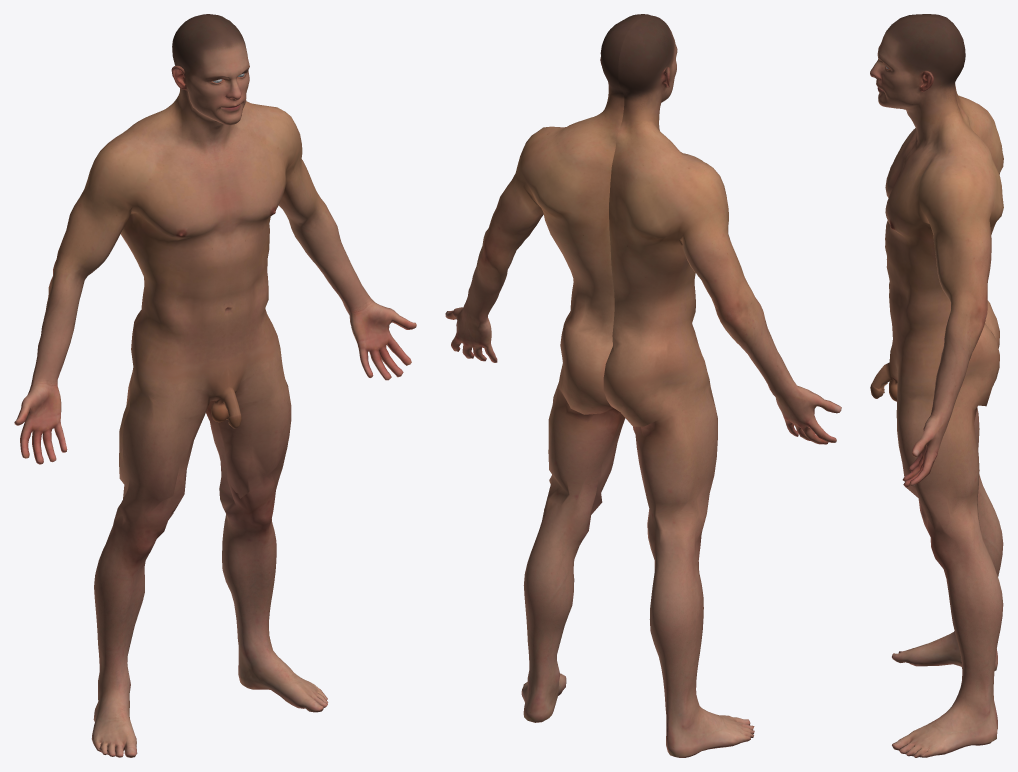
File: male_final_hand_fixed.fbx
3 renders of one model, left to right at view 1: azimuth 30°, elevation 25°; view 2: azimuth 150°, elevation 25°; view 3: azimuth 270°, elevation 25°, orthographic. The views are drawn at different scales.
Parts seen in each view (by area): view 1: body; view 2: body; view 3: body.
Part boxes in pixels (<box>): body: <box>14,14,416,757</box>; body: <box>445,14,841,757</box>; body: <box>870,14,1003,757</box>.
Size of the model in its own units: 10.99 by 18.5 by 3.26.
